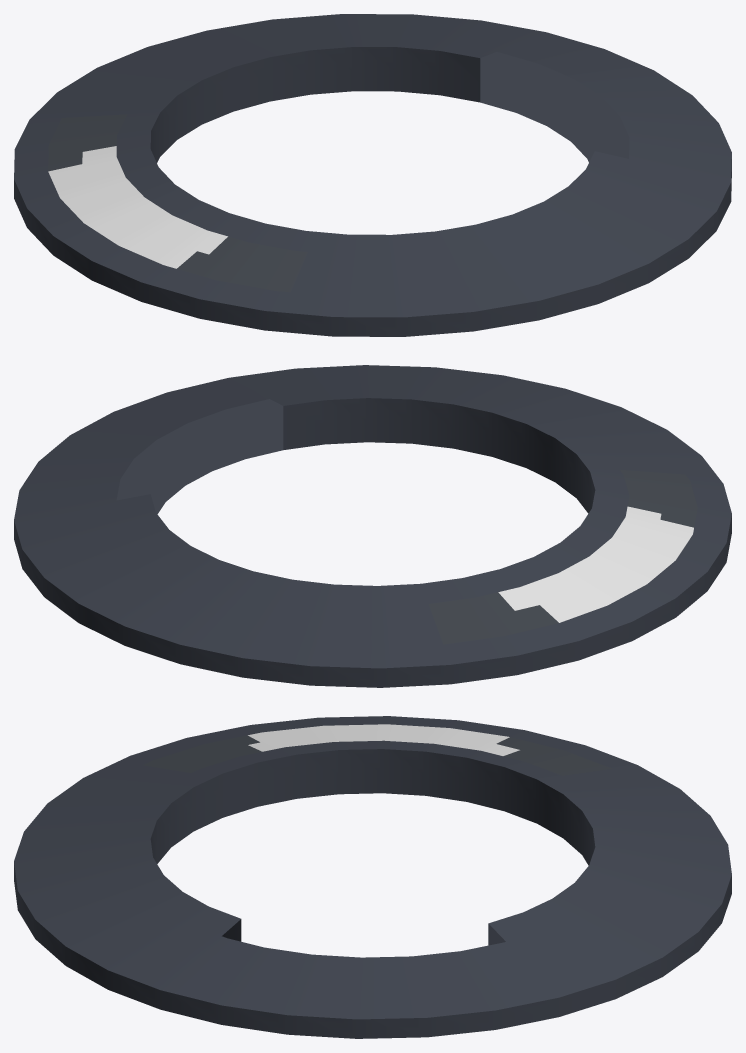
The model's file is Trap_Corner_Training.fbx.
3 renders of one model, top to bottom at view 1: azimuth 30°, elevation 25°; view 2: azimuth 150°, elevation 25°; view 3: azimuth 270°, elevation 25°, orthographic.
Visible parts, largest first — view 1: Circle; view 2: Circle; view 3: Circle.
Part boxes in pixels (bbox=[...]): Circle: bbox=[14, 14, 731, 336]; Circle: bbox=[14, 365, 731, 687]; Circle: bbox=[14, 716, 731, 1038].
Size of the model in its own units: 656 by 44.61 by 656.
2 materials, 1 textured.
